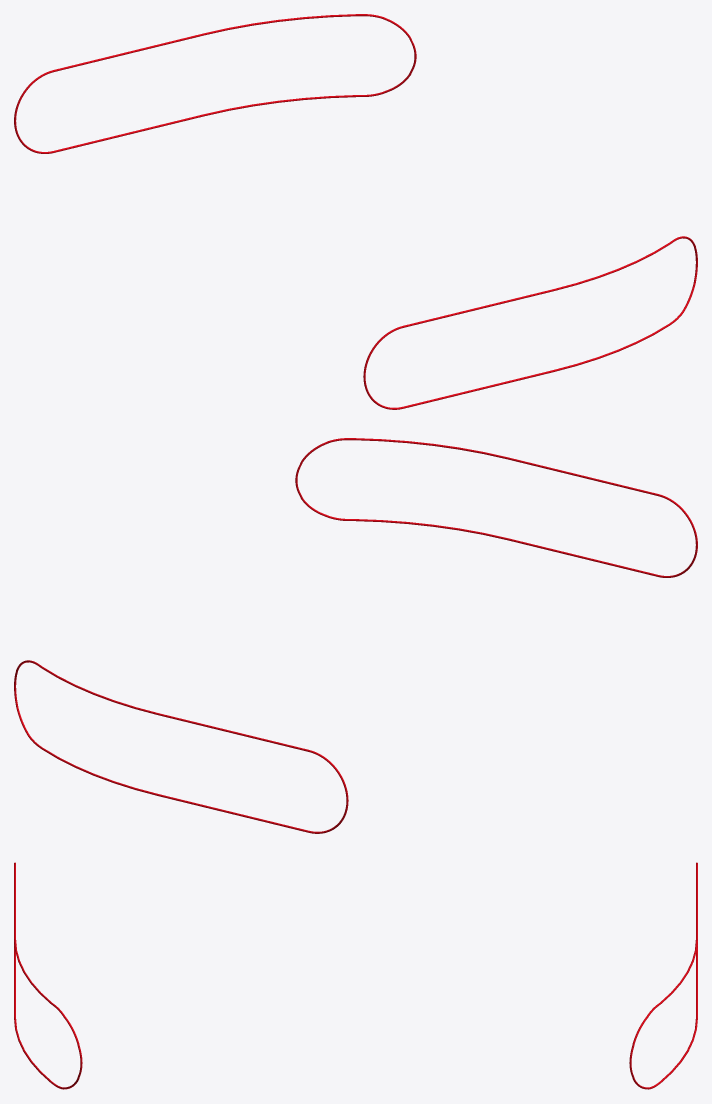
File: SM_Building_Guidelines_3.fbx
The picture shows the model from 3 angles, top to bottom: view 1: azimuth 30°, elevation 25°; view 2: azimuth 150°, elevation 25°; view 3: azimuth 270°, elevation 25°; orthographic projection. The views are drawn at different scales.
Visible parts, largest first — view 1: SM_Building_Guidelines_3; view 2: SM_Building_Guidelines_3; view 3: SM_Building_Guidelines_3.
Boxes of the visible parts, <box> form: SM_Building_Guidelines_3: <box>14,14,697,409</box>; SM_Building_Guidelines_3: <box>14,438,697,833</box>; SM_Building_Guidelines_3: <box>14,862,697,1089</box>.
Size of the model in its own units: 11.91 by 2.56 by 19.64.
